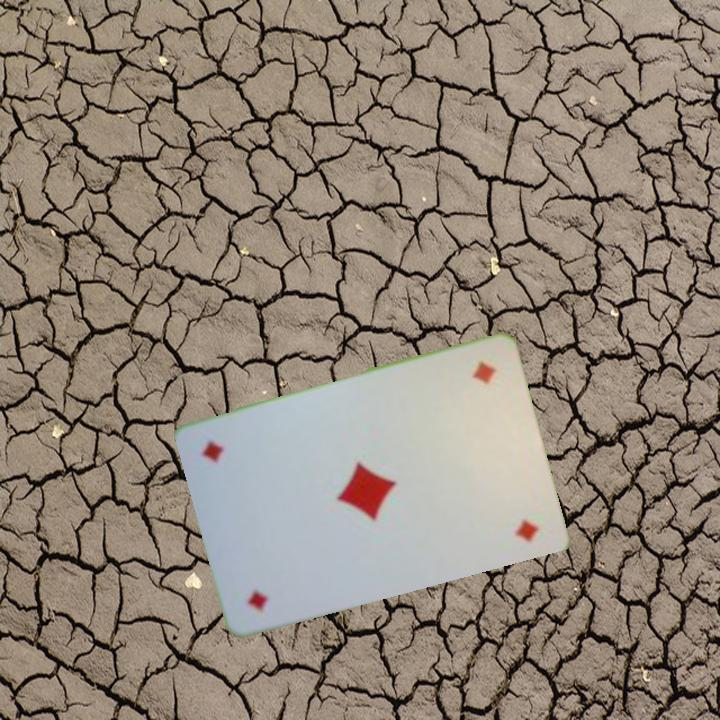d_a.png: (418, 350, 526, 468), (216, 503, 323, 621)
